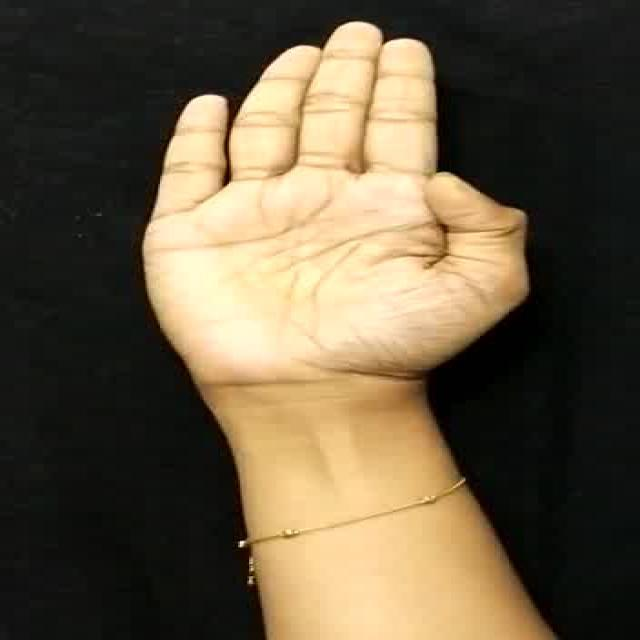pataka: (140, 20, 560, 412)
